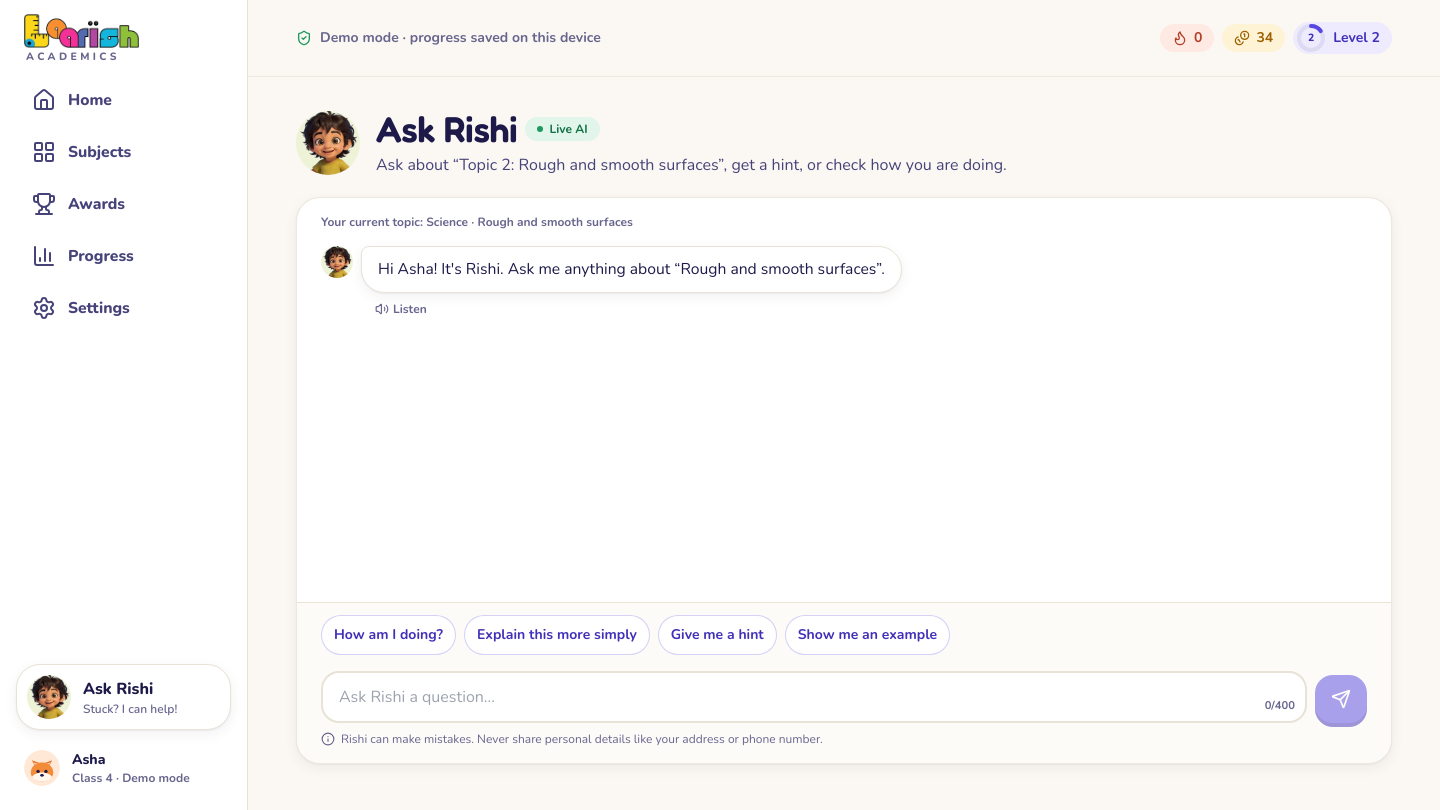
Mentor chat in the browser › shows real progress from the app and sends only a minimal summary
Type "What is my progress?" into the text box labelled "Ask Rishi a question..." at (814, 697), box [321,671,1307,723]
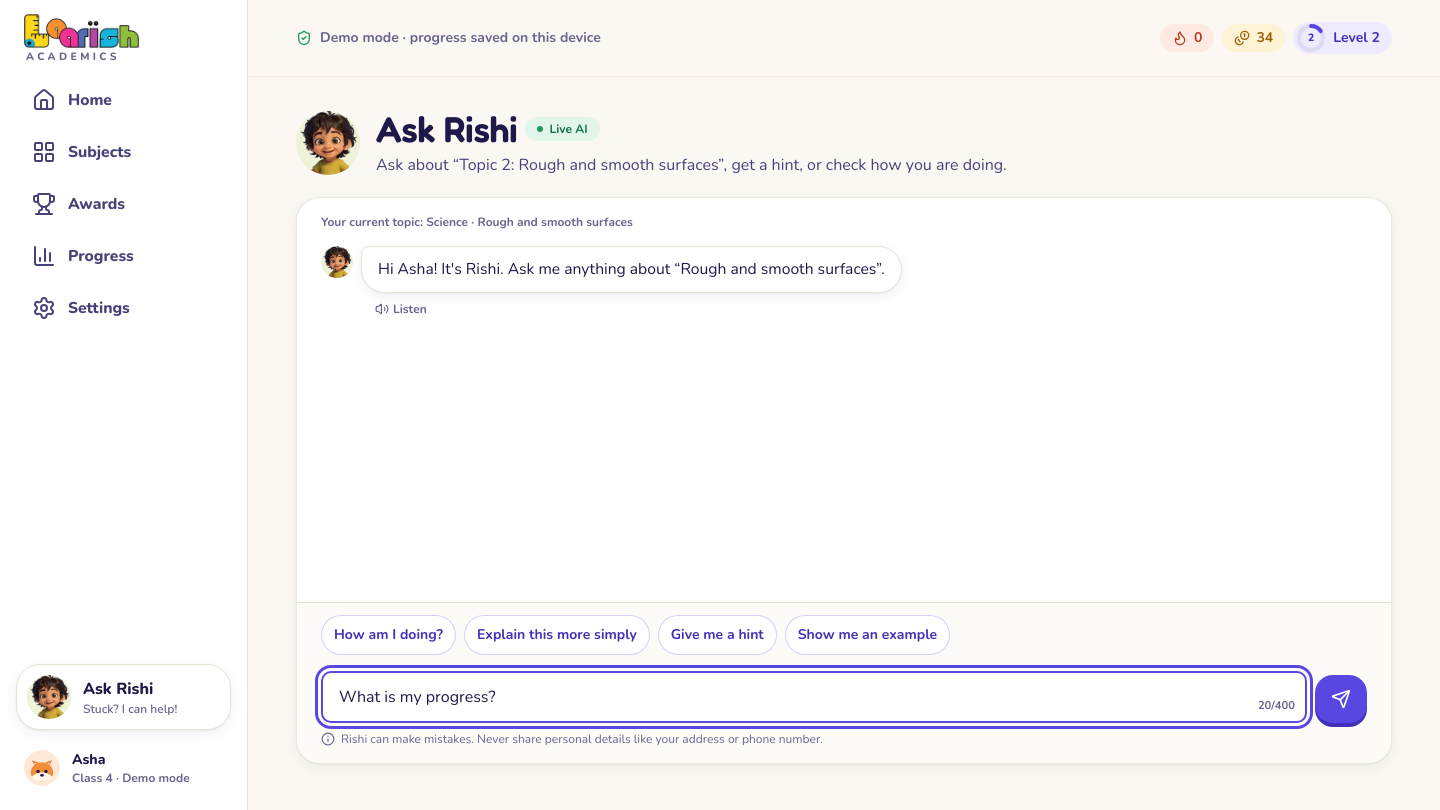
Click the button named "send question" at (1341, 699), box [1315,675,1367,723]
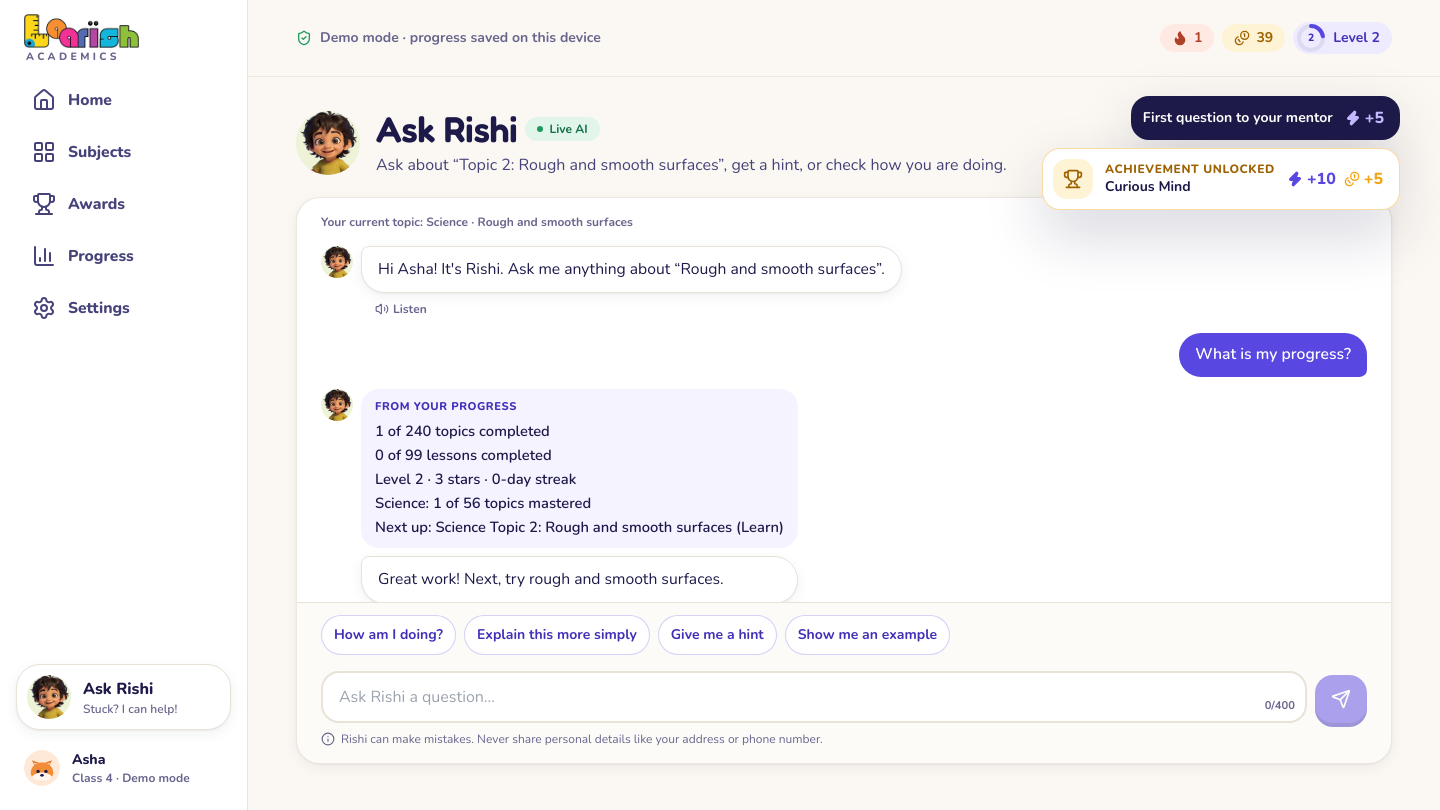
Expected: the list item "1 of 240 topics completed" is shown, [375,421,550,441]
Expected: the list item "0 of 99 lessons completed" is shown, [375,445,552,465]
Expected: the list item "Next up: Science Topic 2: Rough and smooth surfaces (Learn)" is shown, [375,516,784,538]
